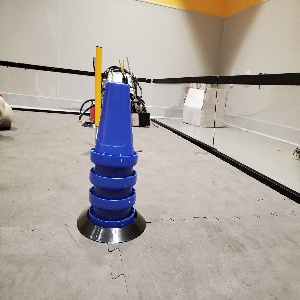Blue_4: (88, 80, 138, 226)
